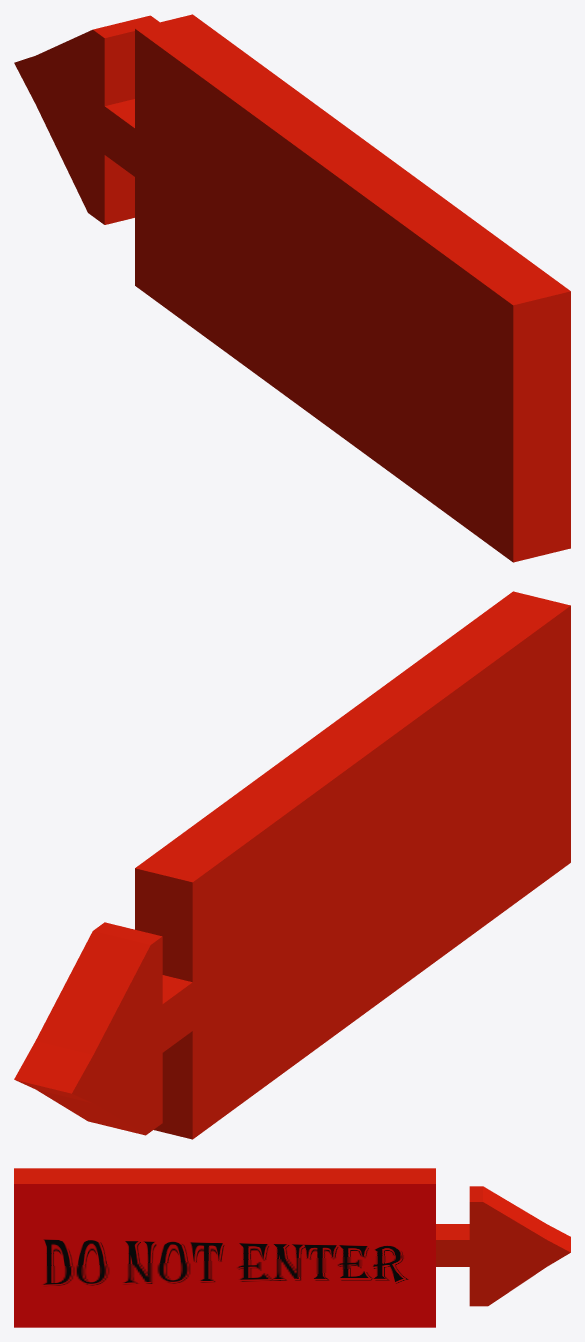
Rendered from DoNotEnter.fbx.
The picture shows the model from 3 angles, top to bottom: view 1: azimuth 30°, elevation 25°; view 2: azimuth 150°, elevation 25°; view 3: azimuth 270°, elevation 25°; orthographic projection. The views are drawn at different scales.
Visible parts, largest first — view 1: Cube; view 2: Cube; view 3: Cube.
Part boxes in pixels (box(x1,y1,x2,y2)): Cube: box(14, 14, 570, 562); Cube: box(14, 591, 570, 1139); Cube: box(14, 1168, 570, 1327).
Bounding box in the file's own units: 47.07 × 200 × 704.
